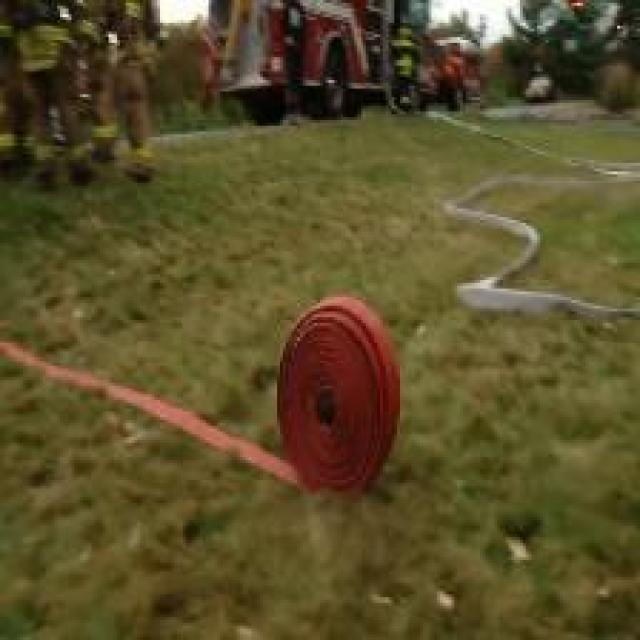other: (244, 271, 431, 514)
